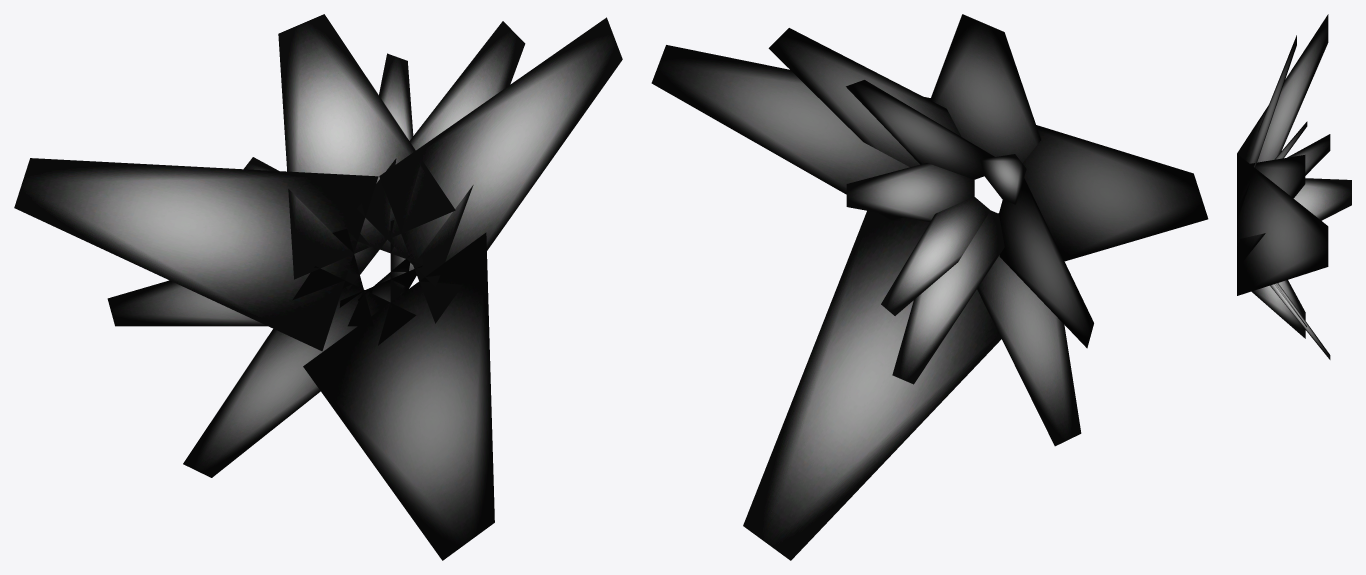
Rendered from vfx_kurp_0385.dae.
3 views of the same model, side by side, from view 1: azimuth 30°, elevation 25°; view 2: azimuth 150°, elevation 25°; view 3: azimuth 270°, elevation 25° (orthographic). The views are drawn at different scales.
Visible parts, largest first — view 1: vfx_kurp_0385; view 2: vfx_kurp_0385; view 3: vfx_kurp_0385.
Part boxes in pixels (x1,y1,x2,y2): vfx_kurp_0385: (14, 14, 622, 560); vfx_kurp_0385: (651, 14, 1208, 560); vfx_kurp_0385: (1237, 14, 1351, 359).
Bounding box in the file's own units: 3.52 × 0.7637 × 3.37.
Materials: 1 (1 with a texture image).
